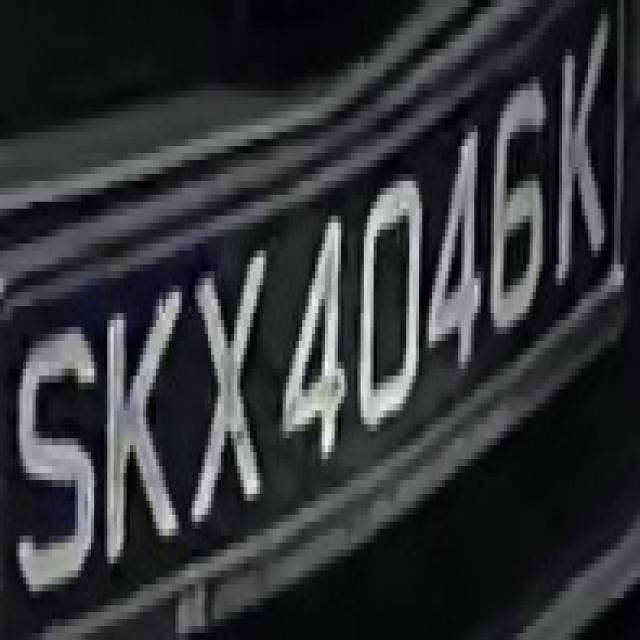0: (348, 167, 438, 473)
4: (286, 181, 351, 466), (426, 104, 490, 390)
6: (481, 83, 546, 355)
K: (97, 264, 182, 584), (549, 28, 621, 313)
S: (10, 306, 97, 626)
X: (182, 243, 283, 550)
